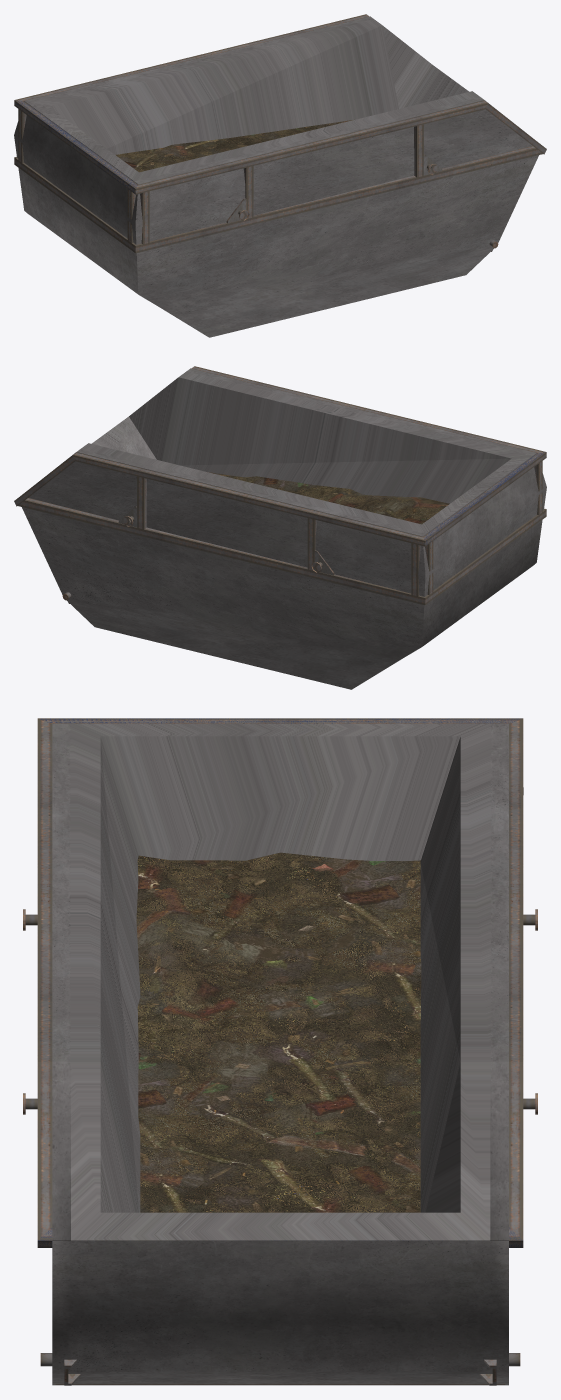
The model's file is ind_dumpster_full.DAE.
The picture shows the model from 3 angles, top to bottom: view 1: azimuth 30°, elevation 25°; view 2: azimuth 150°, elevation 25°; view 3: azimuth 270°, elevation 25°; orthographic projection. The views are drawn at different scales.
Parts seen in each view (by area): view 1: Colmesh-1, ind_dumpster_full150, ind_dumpster_full300, ind_dumpster_full40; view 2: Colmesh-1, ind_dumpster_full150, ind_dumpster_full300, ind_dumpster_full40; view 3: Colmesh-1, ind_dumpster_full150, ind_dumpster_full300, ind_dumpster_full40.
Boxes of the visible parts, <box> form: Colmesh-1: <box>14,16,538,337</box>; ind_dumpster_full150: <box>14,14,546,300</box>; ind_dumpster_full300: <box>126,138,498,248</box>; ind_dumpster_full40: <box>14,100,137,193</box>; Colmesh-1: <box>22,368,546,689</box>; ind_dumpster_full150: <box>14,366,546,653</box>; ind_dumpster_full300: <box>62,476,449,600</box>; ind_dumpster_full40: <box>424,452,546,545</box>; Colmesh-1: <box>52,723,523,1385</box>; ind_dumpster_full150: <box>37,718,523,1385</box>; ind_dumpster_full300: <box>23,852,537,1384</box>; ind_dumpster_full40: <box>37,718,523,1247</box>.
Bounding box in the file's own units: 302 × 164 × 120.
